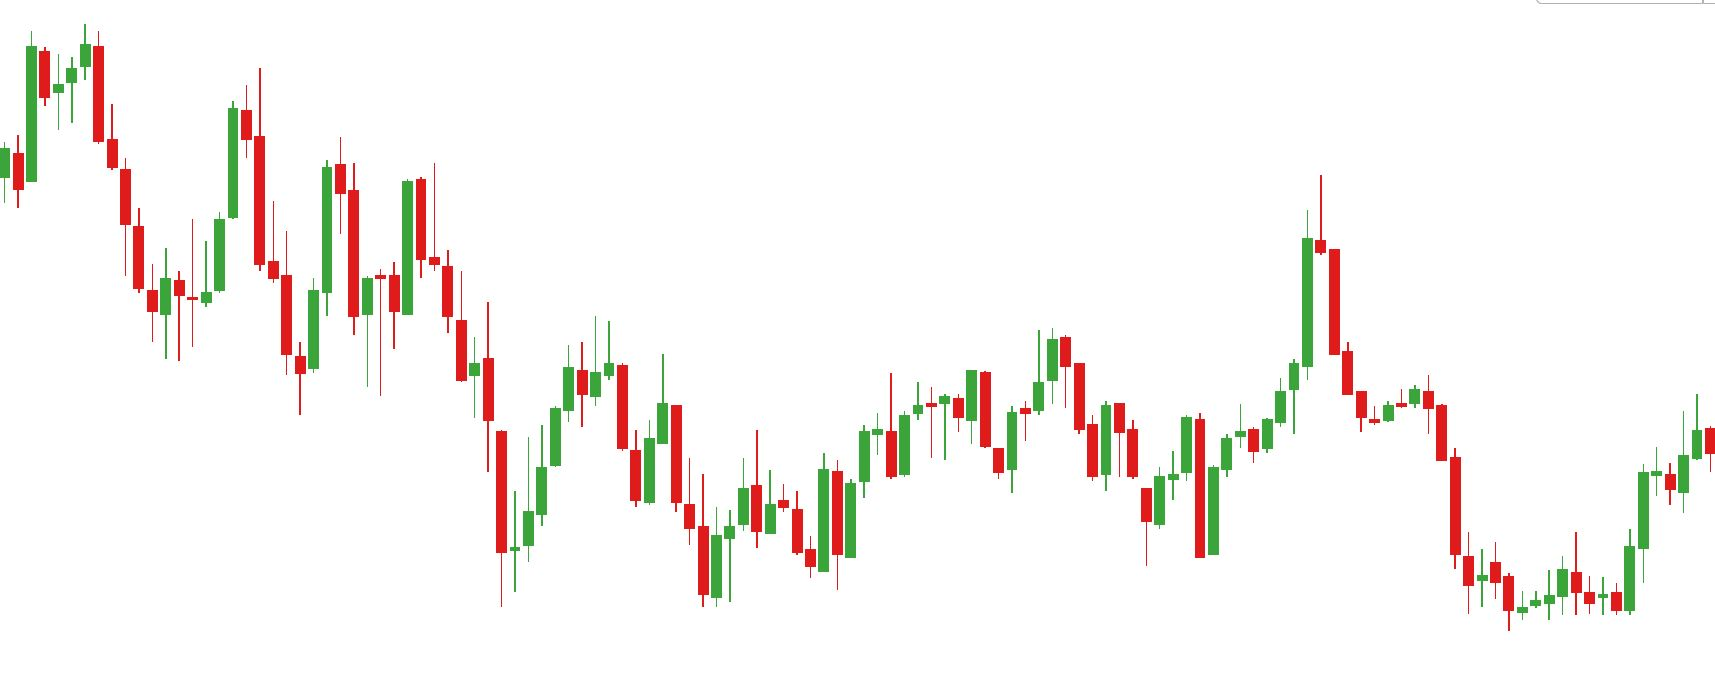buy: (505, 451, 724, 609), (155, 260, 319, 423)
sell: (1031, 175, 1342, 439), (104, 88, 255, 212)
